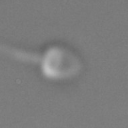normal: (1, 38, 44, 63)
